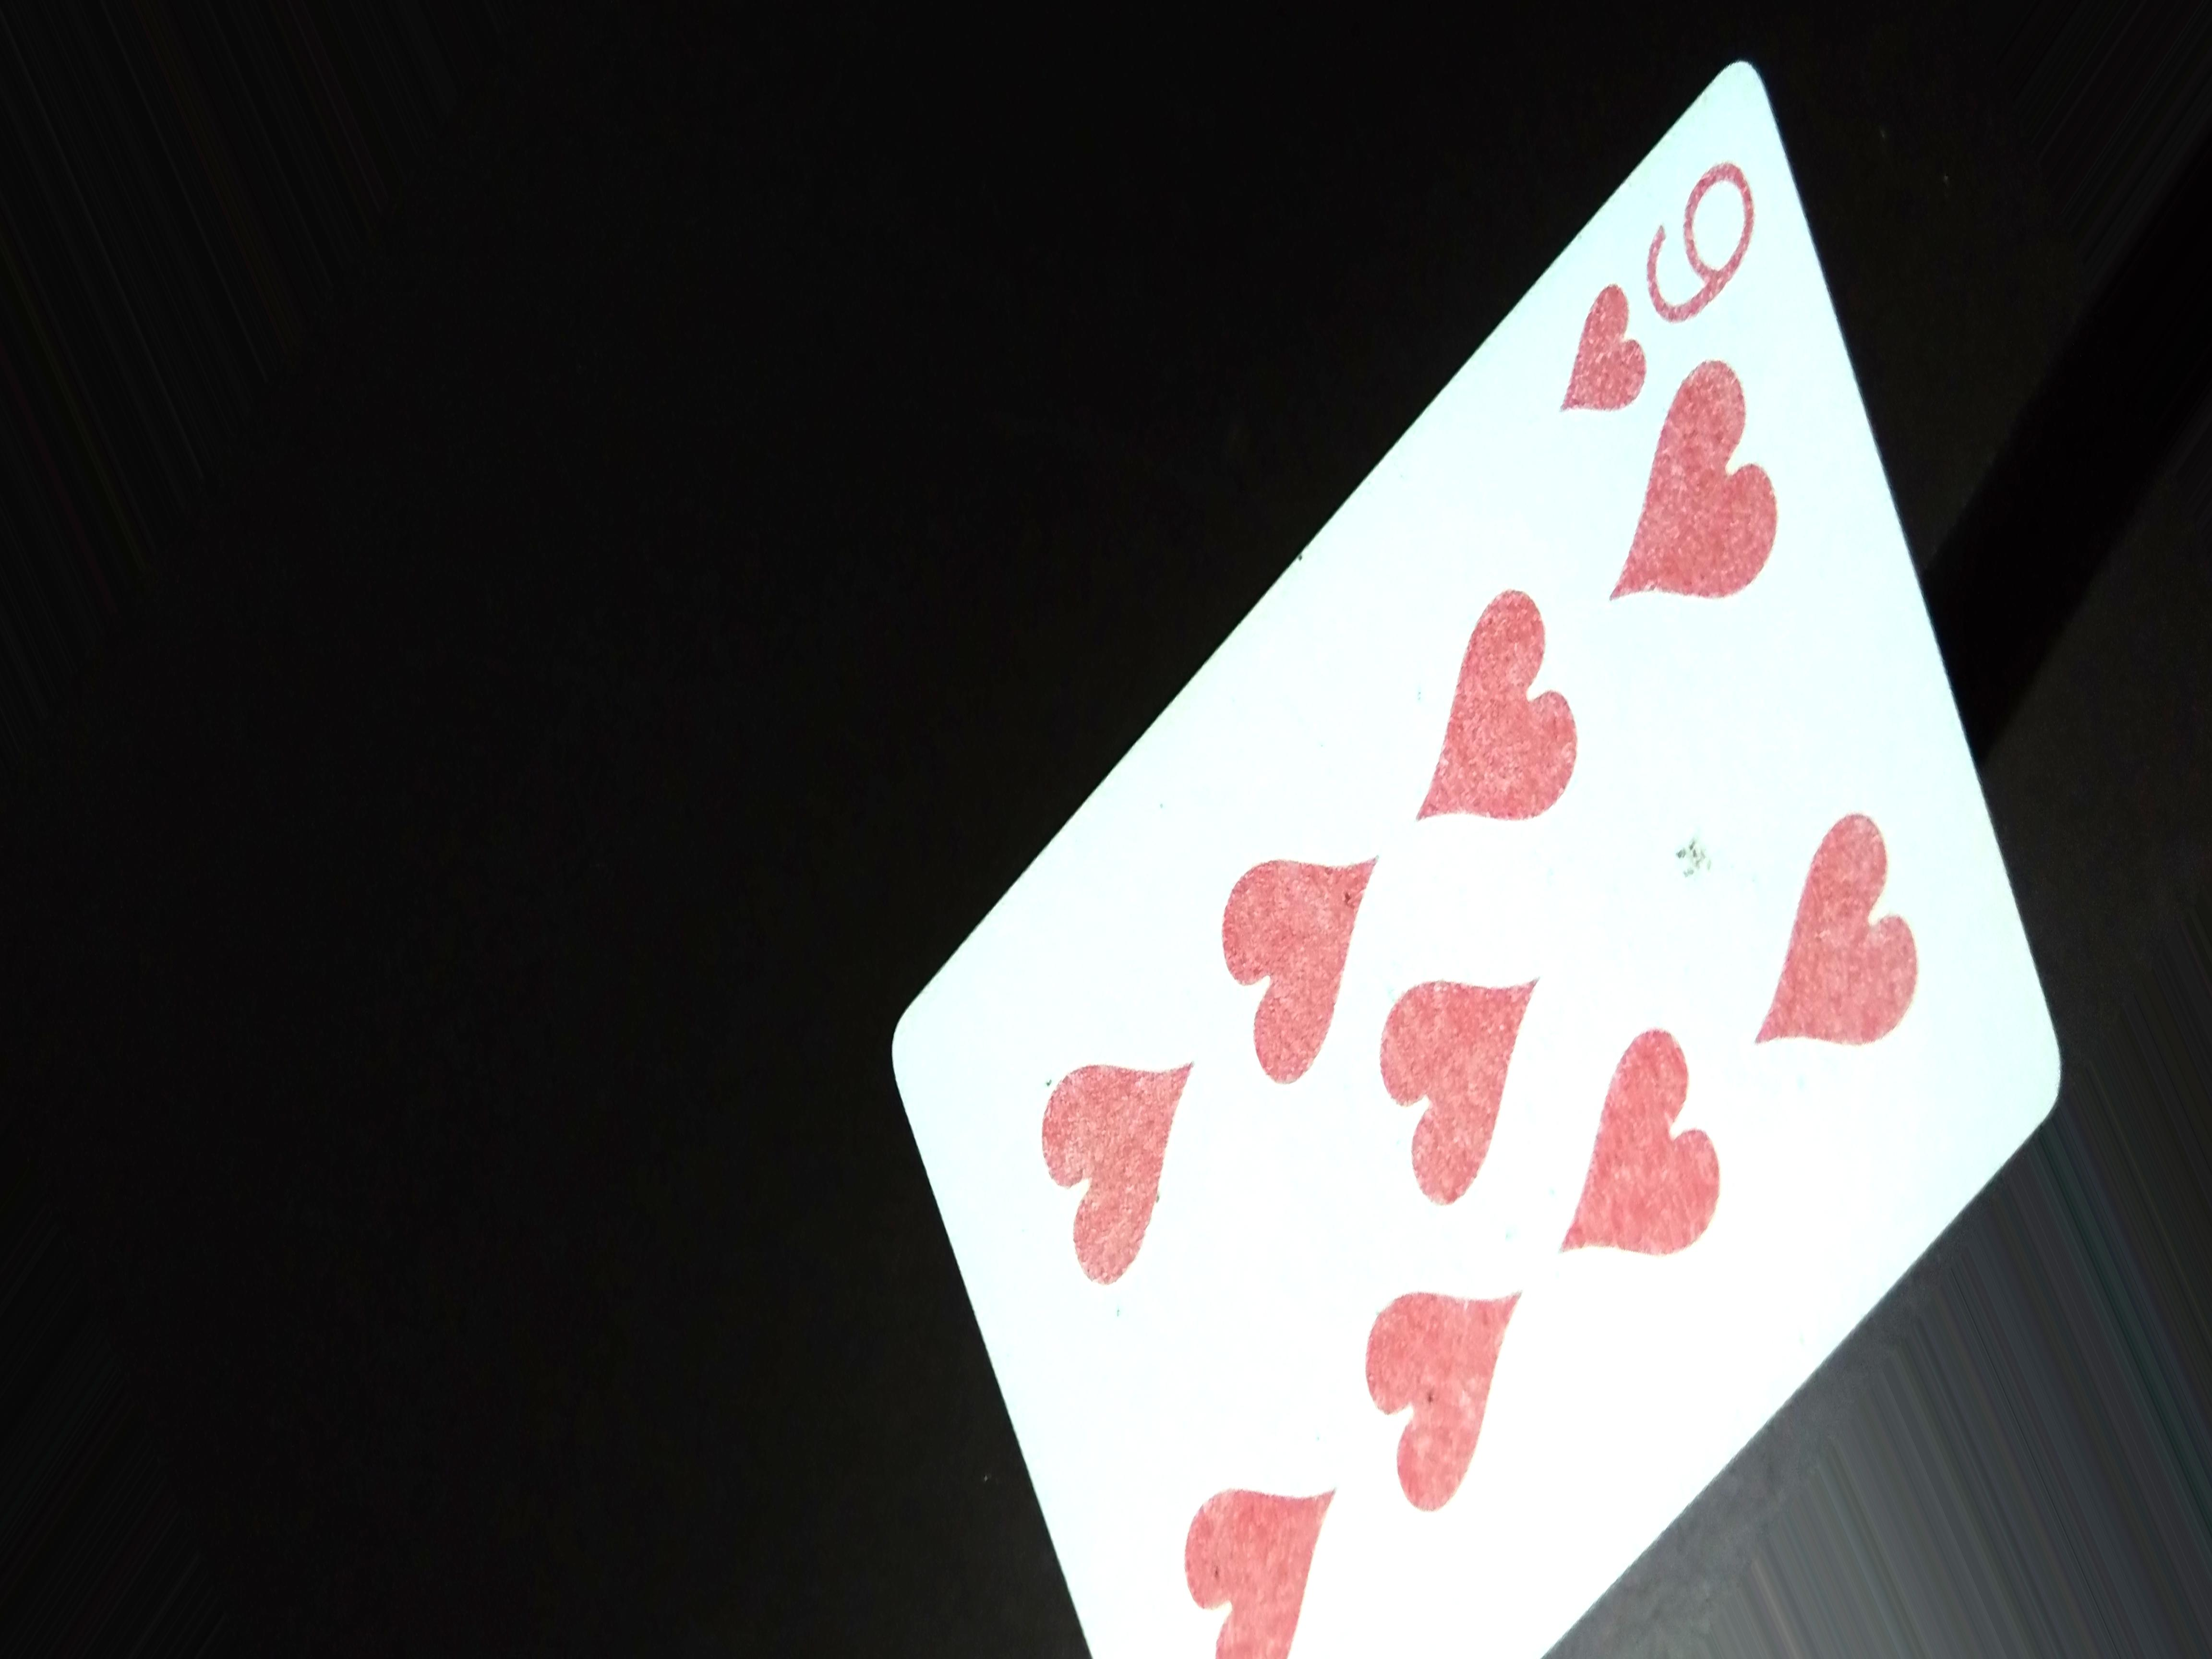9H: (1545, 134, 1771, 434)
